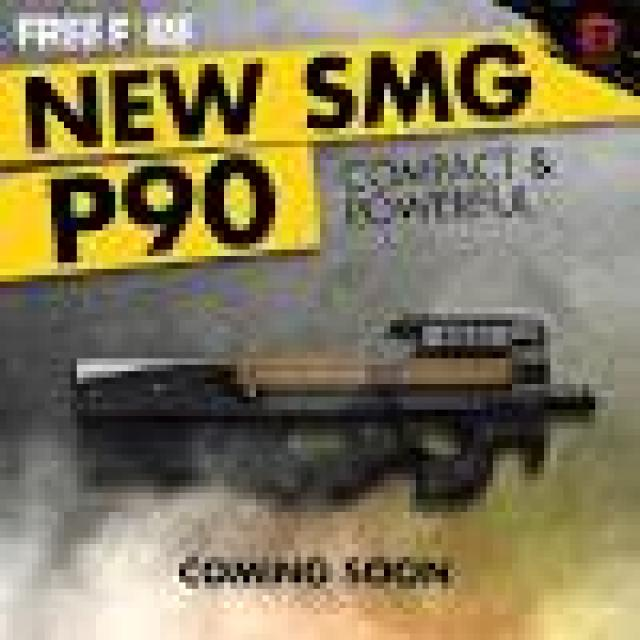Gun: (69, 272, 640, 520)
